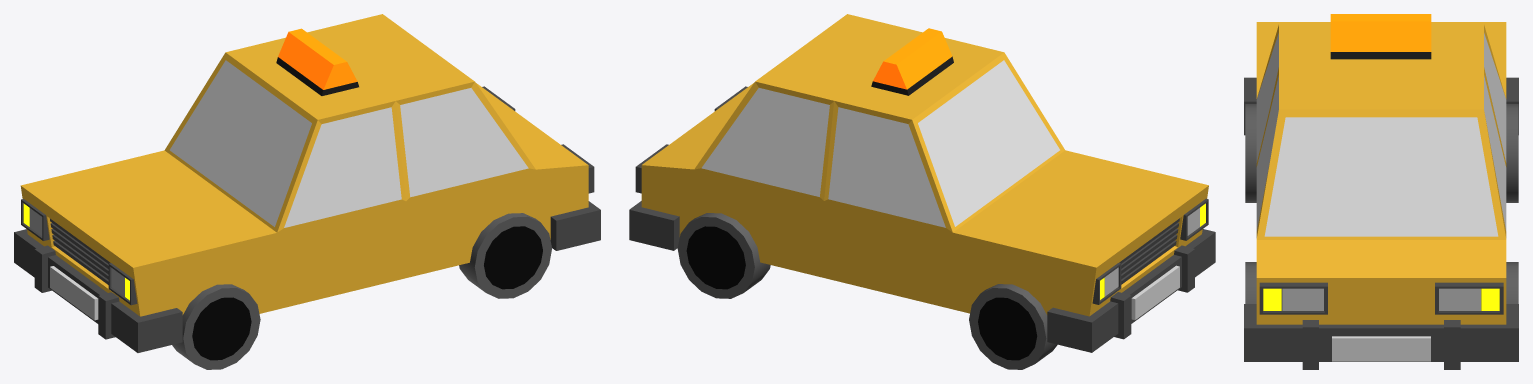
File: Taxi.fbx
The picture shows the model from 3 angles, left to right: view 1: azimuth 30°, elevation 25°; view 2: azimuth 150°, elevation 25°; view 3: azimuth 270°, elevation 25°; orthographic projection. The views are drawn at different scales.
Visible parts, largest first — view 1: Cube, Cylinder.001; view 2: Cube, Cylinder.001; view 3: Cube, Cylinder.001.
Part boxes in pixels (x1,y1,x2,y2): Cube: (14,14,600,352); Cylinder.001: (172,213,551,369); Cube: (629,14,1215,352); Cylinder.001: (677,213,1057,369); Cube: (1244,14,1518,369); Cylinder.001: (1245,104,1518,303).
Bounding box in the file's own units: 287 × 137 × 129.
